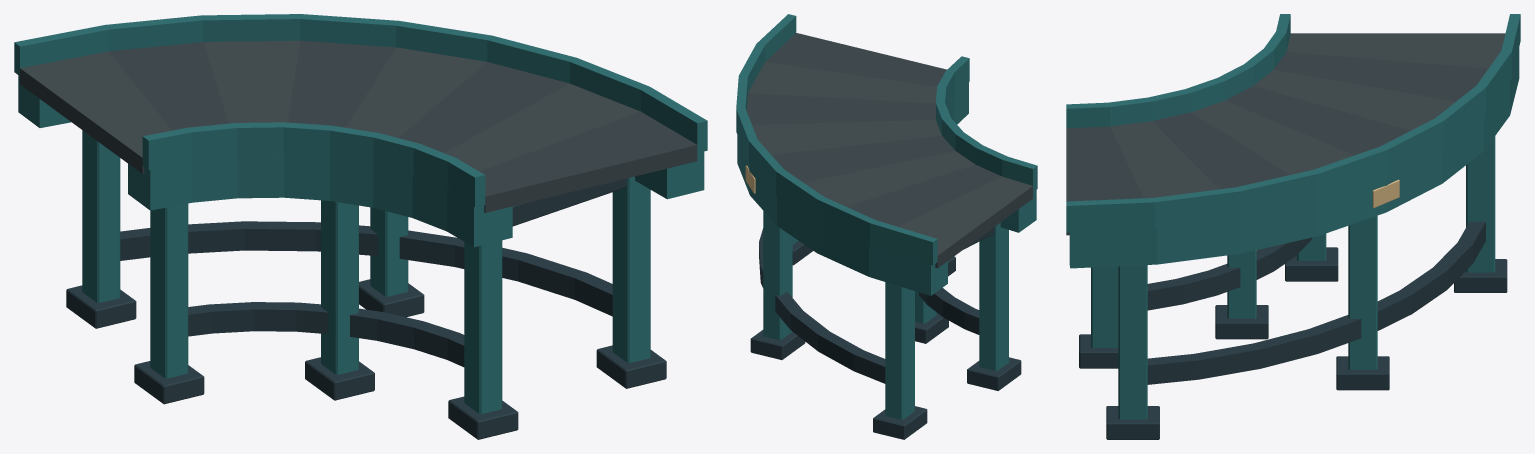
Rendered from conveyor-turn.glb.
3 views of the same model, side by side, from view 1: azimuth 30°, elevation 25°; view 2: azimuth 150°, elevation 25°; view 3: azimuth 270°, elevation 25° (orthographic). The views are drawn at different scales.
Visible parts, largest first — view 1: conveyor-turn__batch_03, conveyor-turn__batch_00, conveyor-turn__batch_01; view 2: conveyor-turn__batch_00, conveyor-turn__batch_03, conveyor-turn__batch_01; view 3: conveyor-turn__batch_03, conveyor-turn__batch_00, conveyor-turn__batch_01, conveyor-turn__batch_02.
Boxes of the visible parts, bbox=[...] form: conveyor-turn__batch_03: bbox=[14, 14, 707, 414]; conveyor-turn__batch_00: bbox=[20, 40, 697, 212]; conveyor-turn__batch_01: bbox=[66, 178, 666, 439]; conveyor-turn__batch_00: bbox=[746, 33, 1032, 268]; conveyor-turn__batch_03: bbox=[736, 14, 1037, 419]; conveyor-turn__batch_01: bbox=[750, 227, 1021, 439]; conveyor-turn__batch_03: bbox=[1066, 14, 1520, 419]; conveyor-turn__batch_00: bbox=[1066, 33, 1505, 235]; conveyor-turn__batch_01: bbox=[1079, 221, 1507, 439]; conveyor-turn__batch_02: bbox=[1372, 179, 1399, 208].
Bounding box in the file's own units: 1.7 × 1 × 1.7.
